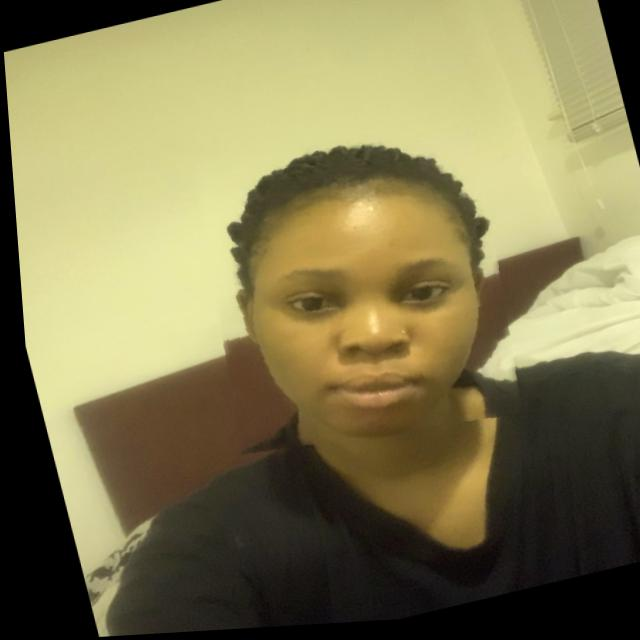sad: (171, 108, 535, 476)
